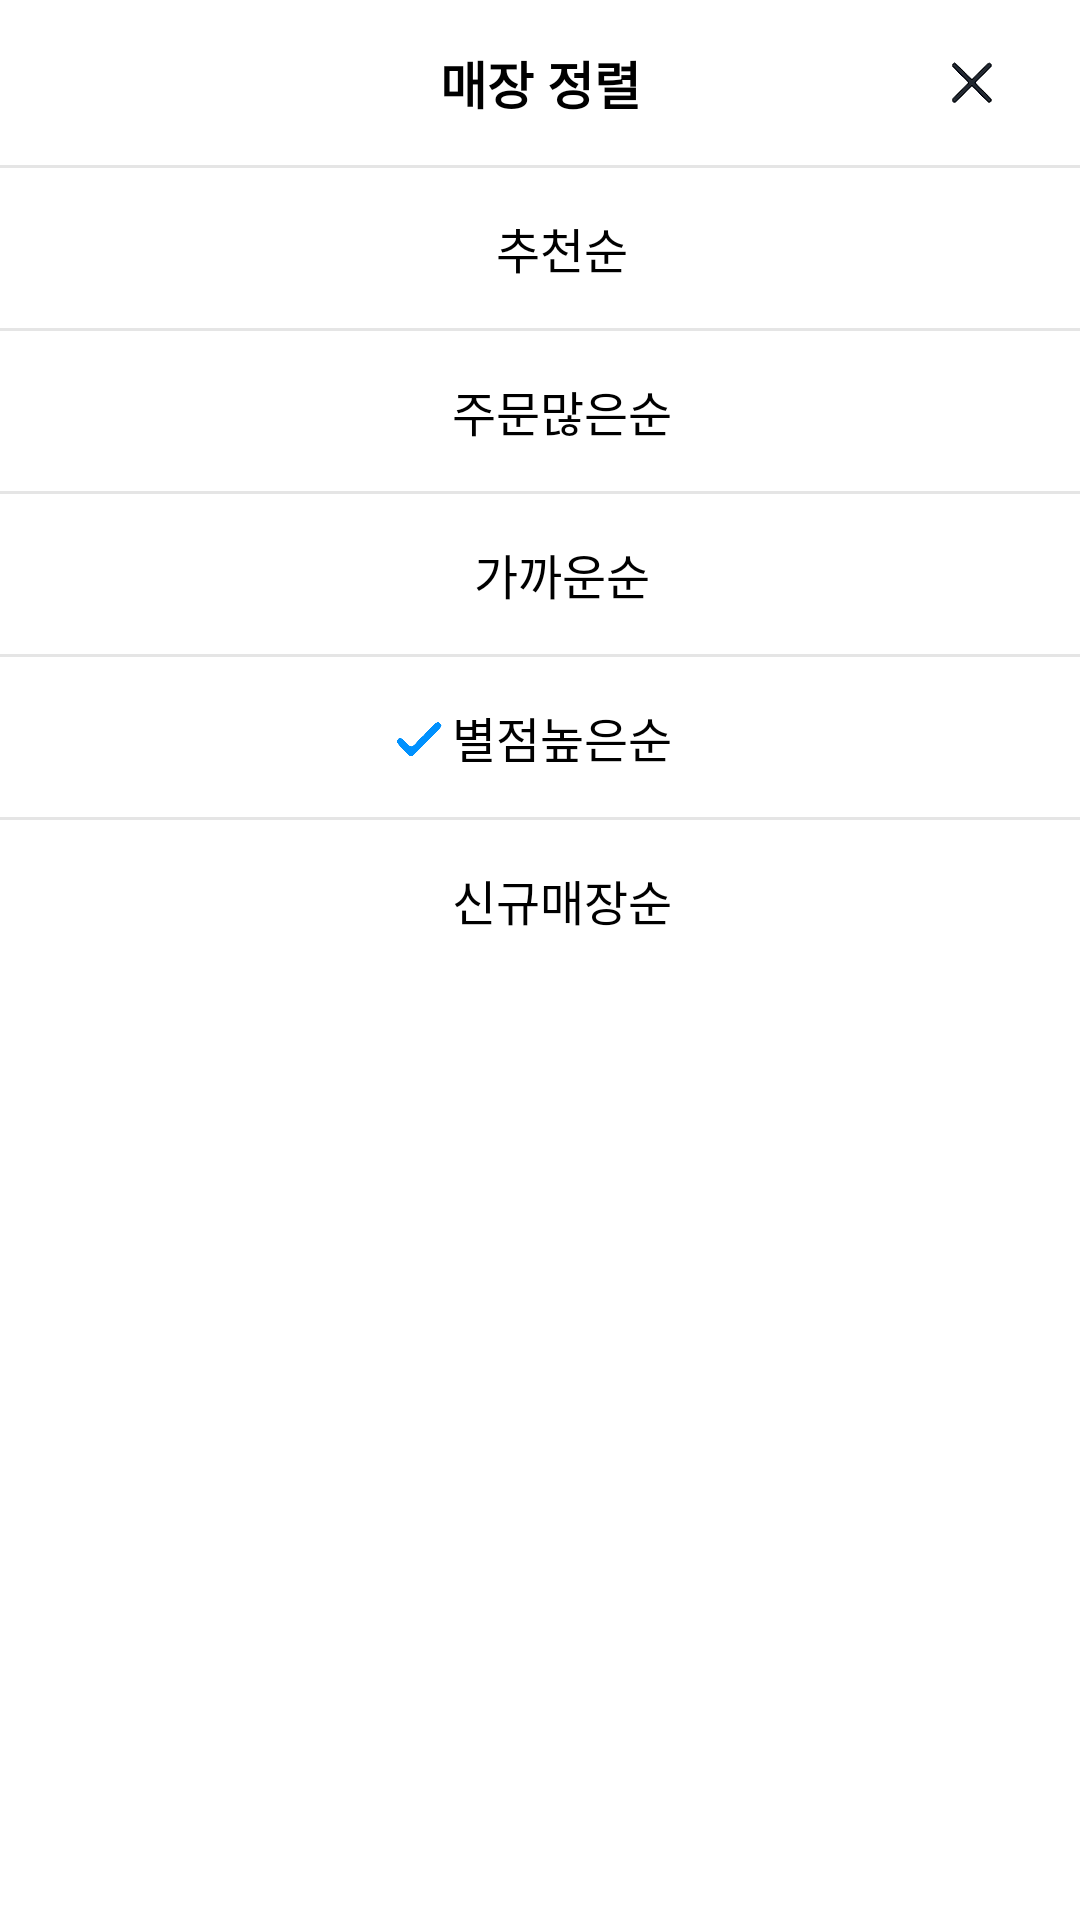

Locate icon controls on the screen. Image size 1080*1920, boxes as (x1, y1, x2, y2).
login quit: (952, 62, 992, 103)
